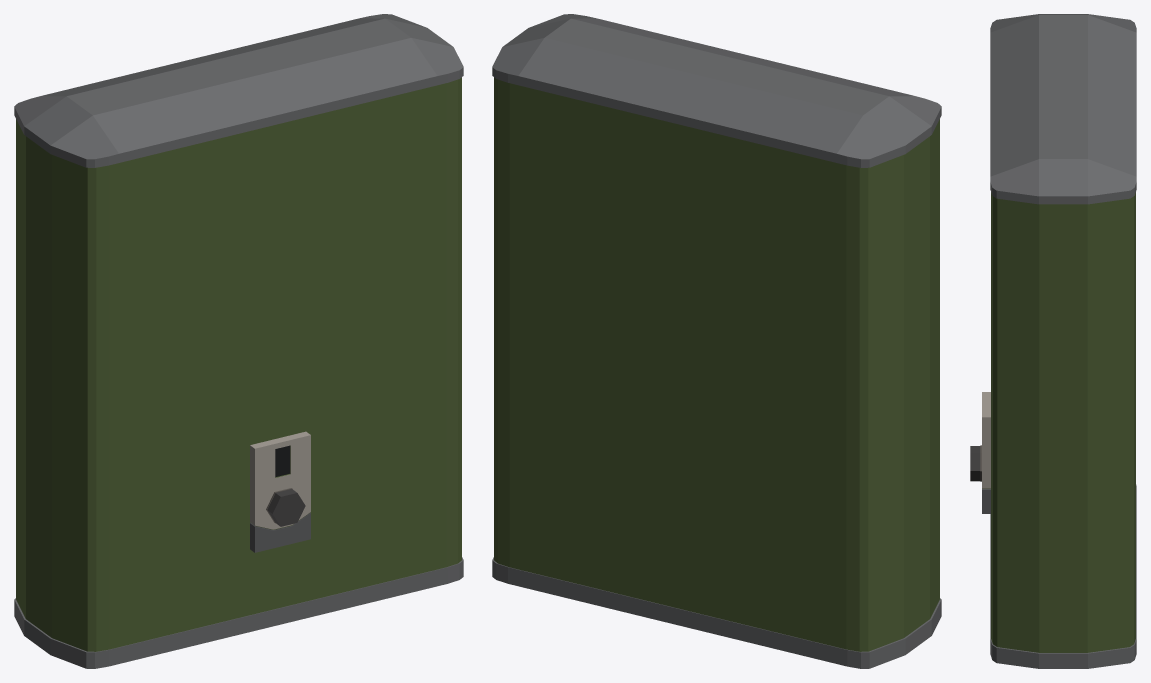
The model's file is waterheaterlarge_01_B.gltf.
The picture shows the model from 3 angles, left to right: view 1: azimuth 30°, elevation 25°; view 2: azimuth 150°, elevation 25°; view 3: azimuth 270°, elevation 25°; orthographic projection. The views are drawn at different scales.
Parts seen in each view (by area): view 1: waterheaterlarge_01_B, switchforwaterheaterlarge_01_B; view 2: waterheaterlarge_01_B; view 3: waterheaterlarge_01_B, switchforwaterheaterlarge_01_B.
Part boxes in pixels (x1,y1,x2,y2): waterheaterlarge_01_B: (14,14,463,668); switchforwaterheaterlarge_01_B: (266,488,305,526); waterheaterlarge_01_B: (492,14,941,668); waterheaterlarge_01_B: (982,14,1136,668); switchforwaterheaterlarge_01_B: (970,445,981,481).
Bounding box in the file's own units: 0.946 × 1.2 × 0.3638.
Materials: 1 (1 with a texture image).
